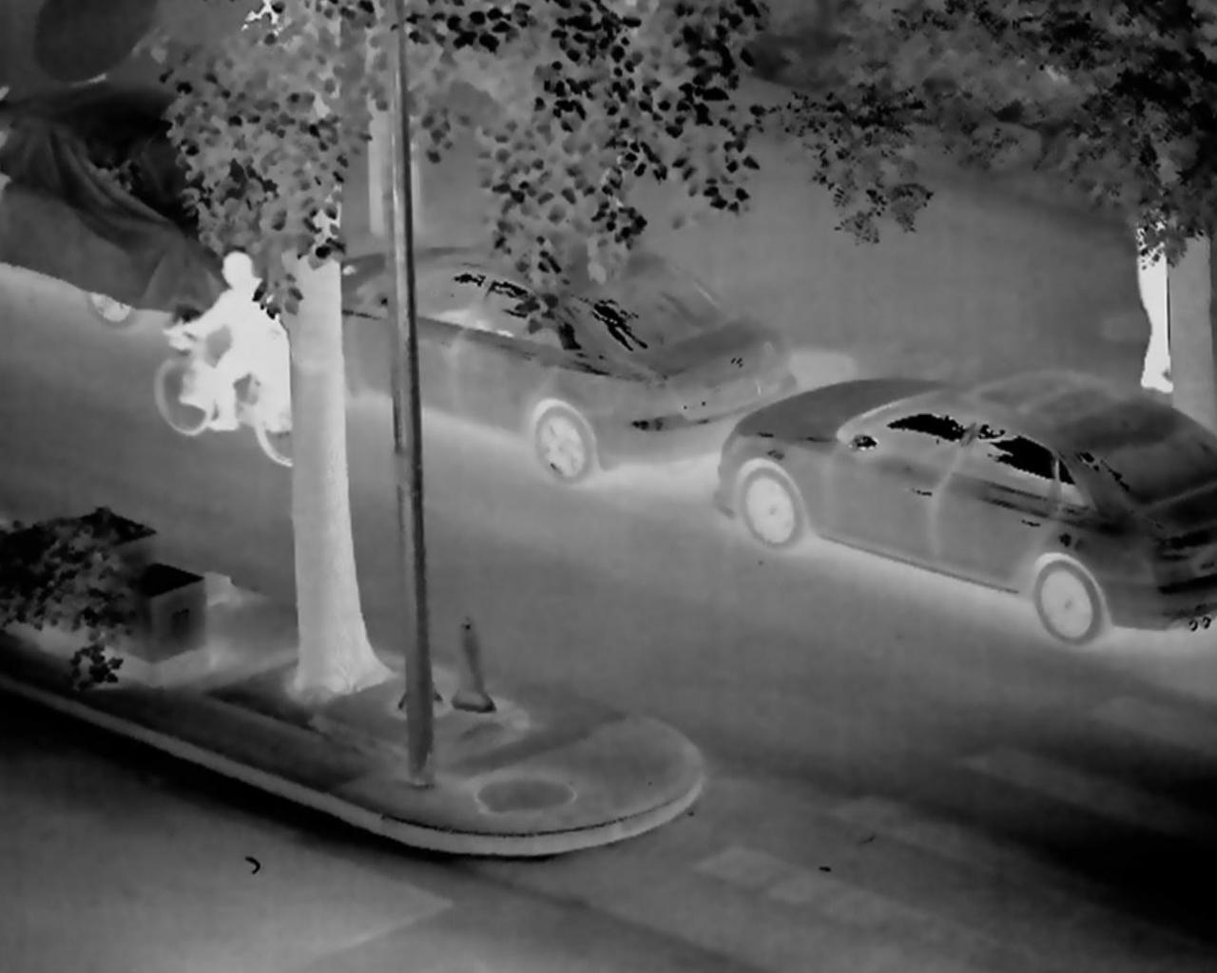person: (167, 250, 296, 476), (1097, 158, 1191, 417)
